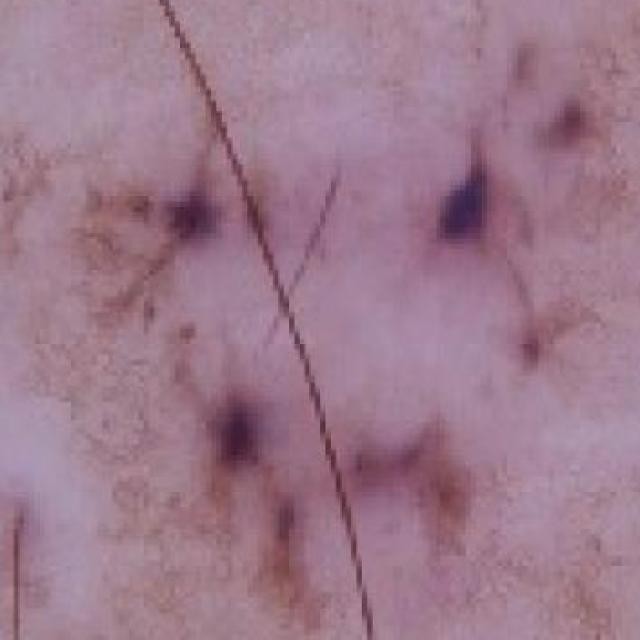BCC: (51, 35, 640, 553)
